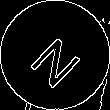N_NE: (23, 23, 87, 87)
